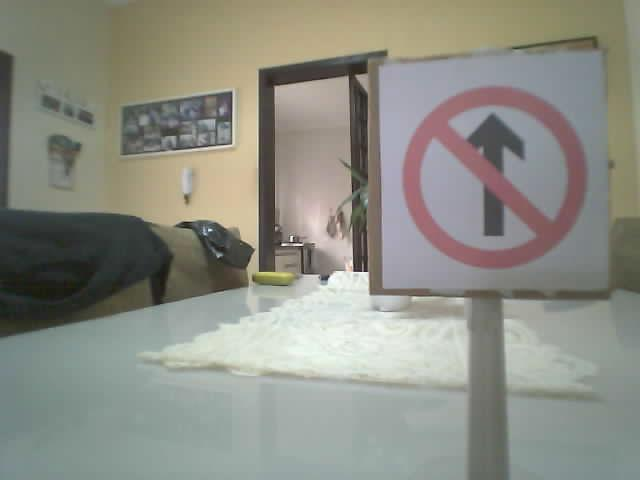R-3_sentido-proibido: (400, 83, 589, 268)
